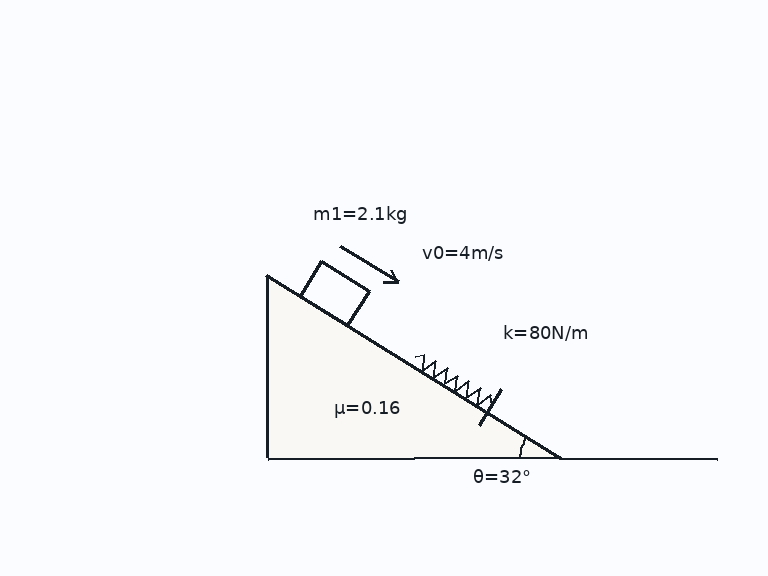block: (298, 259, 371, 327)
ramp: (265, 273, 562, 460)
spring: (414, 353, 494, 407)
